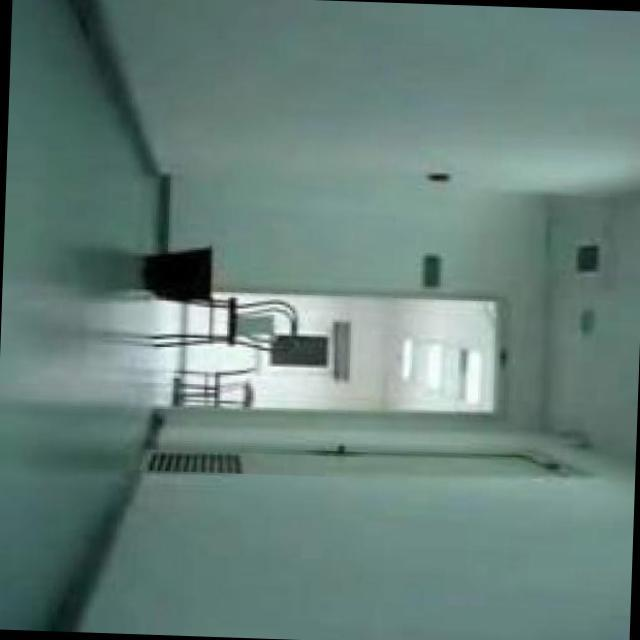Fire: (206, 287, 228, 302)
